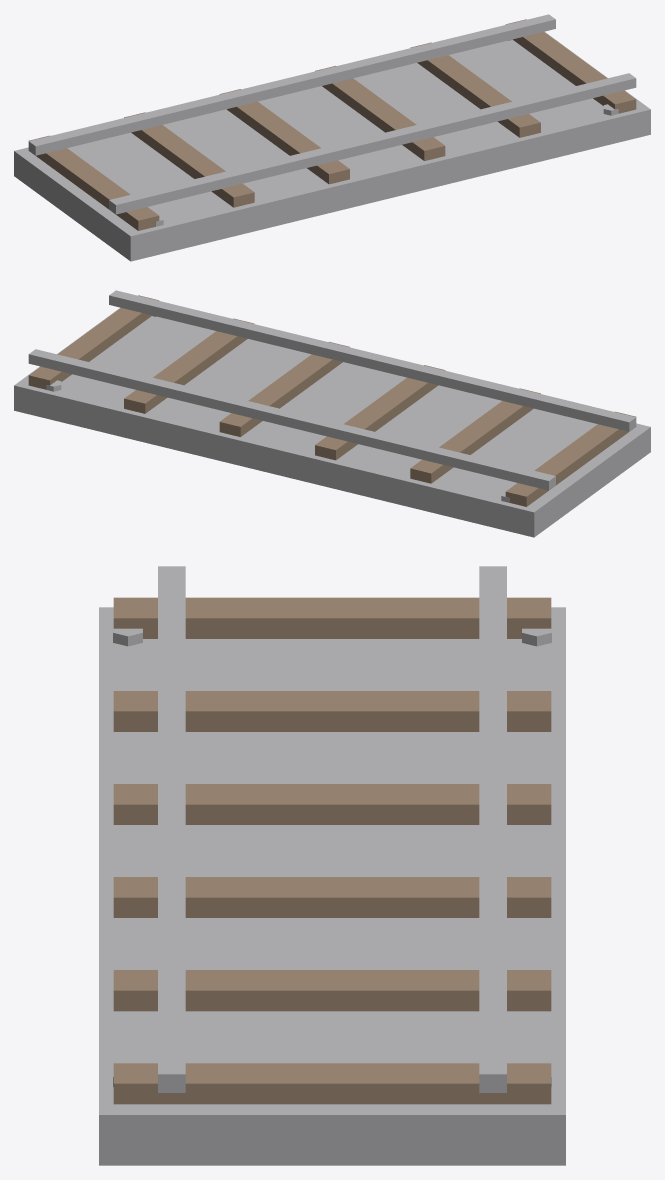
File: rail_track_common.glb
The picture shows the model from 3 angles, top to bottom: view 1: azimuth 30°, elevation 25°; view 2: azimuth 150°, elevation 25°; view 3: azimuth 270°, elevation 25°; orthographic projection. The views are drawn at different scales.
Visible parts, largest first — view 1: rail_track; view 2: rail_track; view 3: rail_track.
Boxes of the visible parts, x1,y1,x2,y2 form: rail_track: (14,14,650,261); rail_track: (14,290,650,537); rail_track: (99,566,565,1165).
Bounding box in the file's own units: 3.46 × 0.29 × 1.34.
